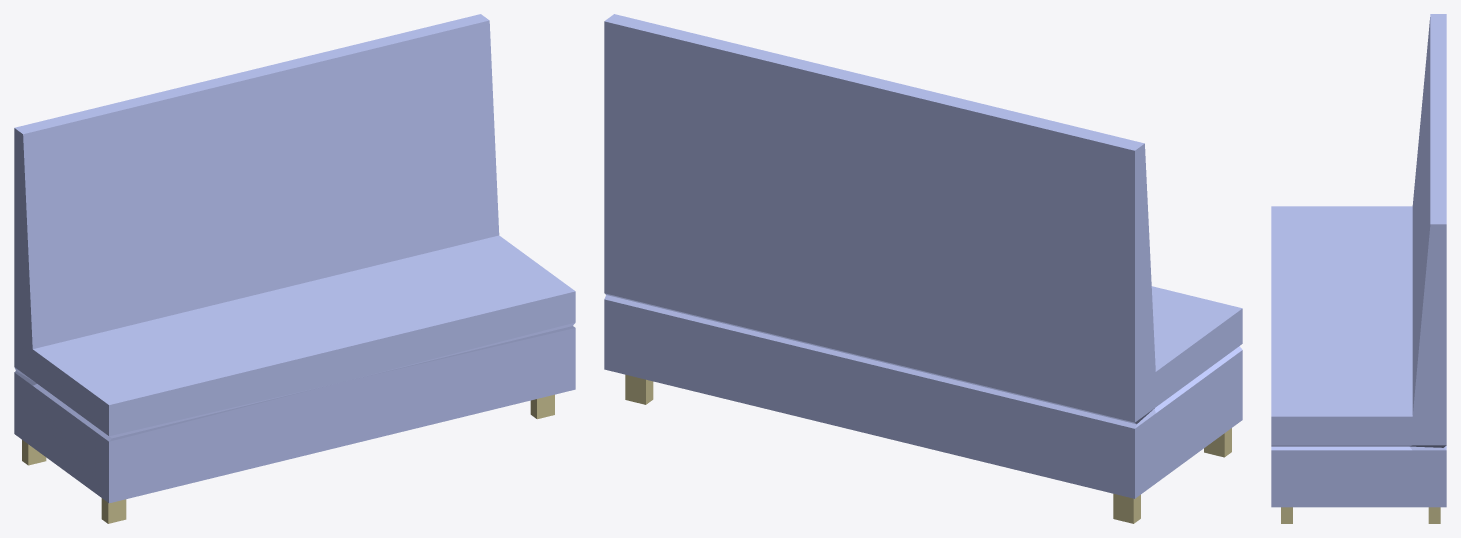
3 renders of one model, left to right at view 1: azimuth 30°, elevation 25°; view 2: azimuth 150°, elevation 25°; view 3: azimuth 270°, elevation 25°, orthographic. The views are drawn at different scales.
Visible parts, largest first — view 1: chair8; view 2: chair8; view 3: chair8.
Part boxes in pixels (x1=…): chair8: x1=14, y1=14, x2=575, y2=523; chair8: x1=604, y1=14, x2=1242, y2=523; chair8: x1=1271, y1=14, x2=1446, y2=523.
Size of the model in its own units: 153 by 104 by 53.84.
